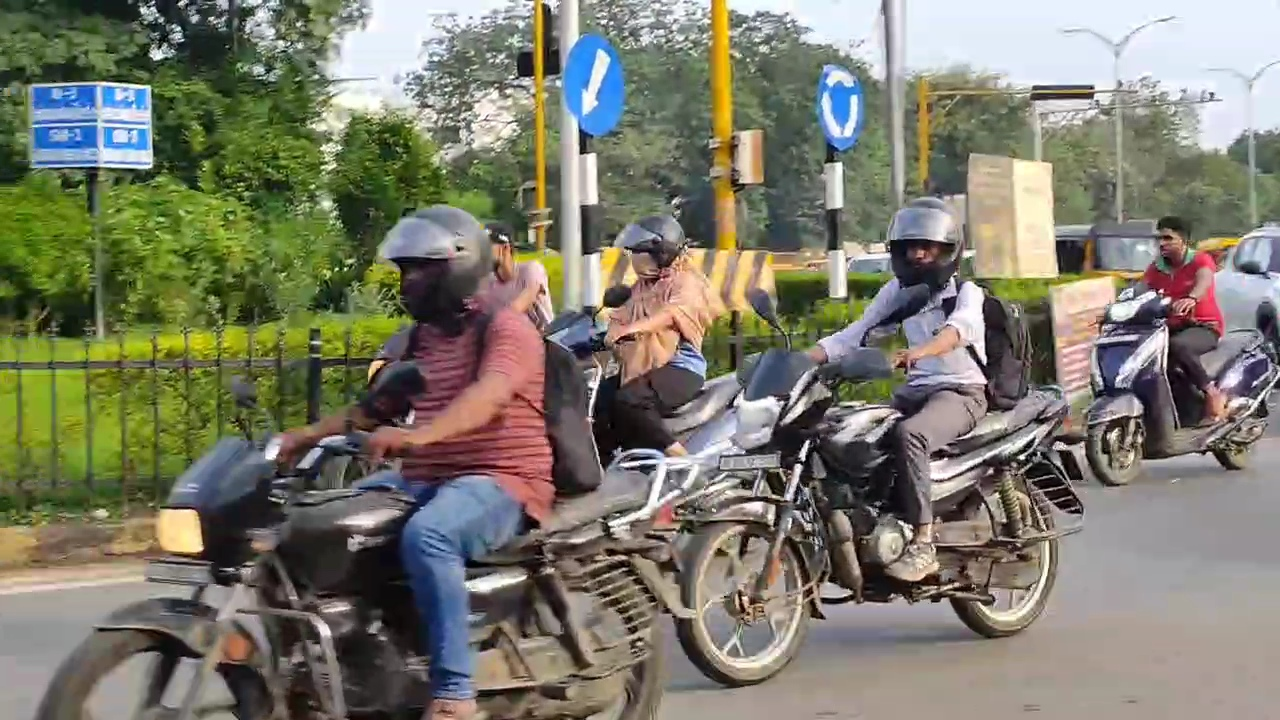BikeWithRider: (28, 198, 699, 720), (671, 194, 1087, 697), (1086, 209, 1280, 489), (548, 209, 749, 470)
Helmet: (377, 203, 496, 332), (887, 194, 970, 296), (615, 212, 687, 282)
NoHelmet: (1156, 214, 1193, 262)
